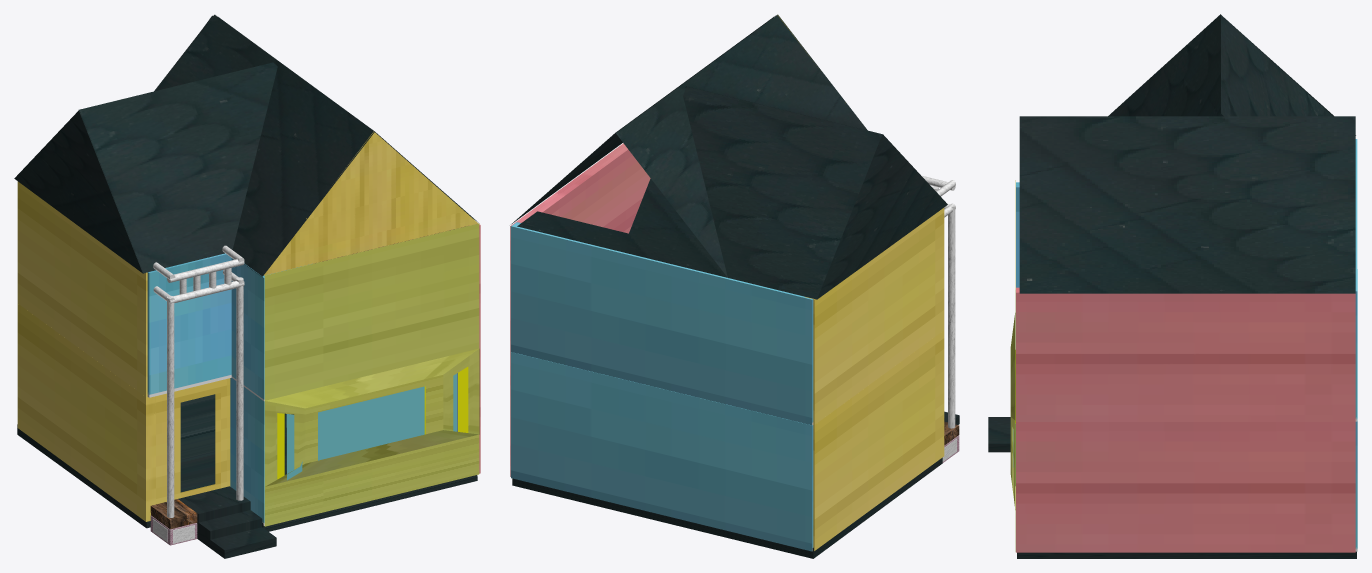
Rendered from casaSinPuerta.obj.
The picture shows the model from 3 angles, left to right: view 1: azimuth 30°, elevation 25°; view 2: azimuth 150°, elevation 25°; view 3: azimuth 270°, elevation 25°; orthographic projection. The views are drawn at different scales.
Parts seen in each view (by area): view 1: casa:pCube16; view 2: casa:pCube16; view 3: casa:pCube16.
Boxes of the visible parts, bbox=[...] form: casa:pCube16: bbox=[14, 14, 480, 558]; casa:pCube16: bbox=[510, 14, 959, 558]; casa:pCube16: bbox=[988, 14, 1357, 558].
Size of the model in its own units: 15.37 by 18.12 by 15.38.
18 materials, 14 textured.
